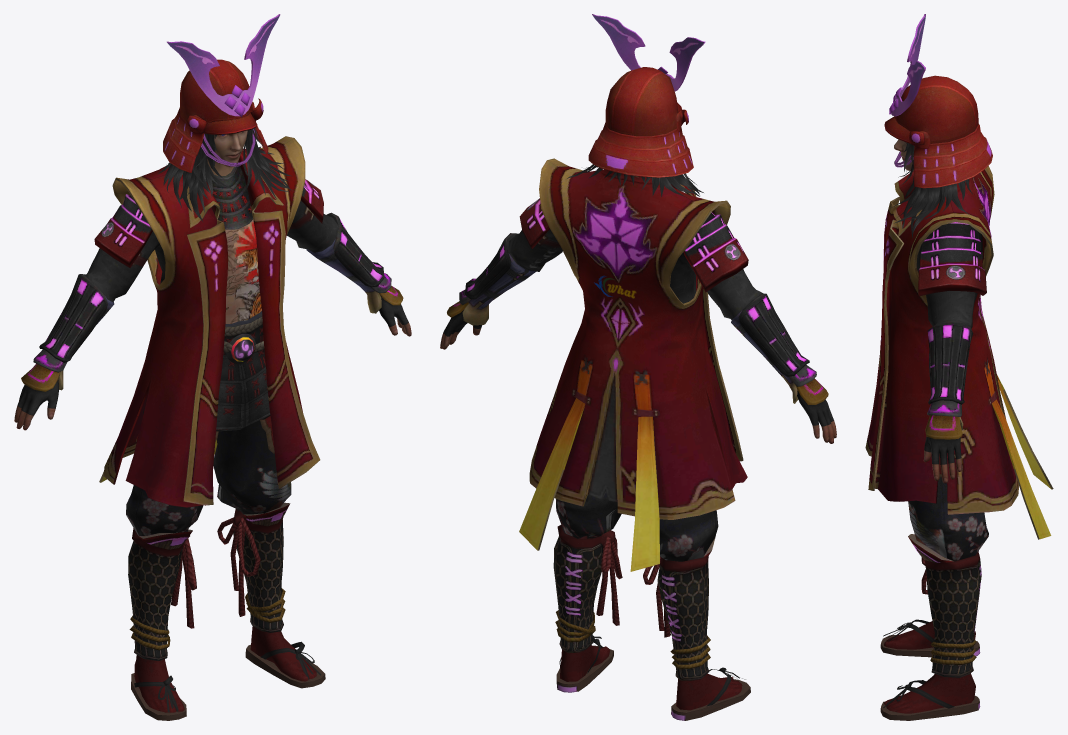
The model's file is Warringstates Male.obj.
3 views of the same model, side by side, from view 1: azimuth 30°, elevation 25°; view 2: azimuth 150°, elevation 25°; view 3: azimuth 270°, elevation 25° (orthographic). The views are drawn at different scales.
Parts seen in each view (by area): view 1: Male_Lobby_Top_Cos_Warringstates.001, Male_Lobby_Top_Cos_Warringstates.004, Male_Lobby_Top_Cos_Warringstates.005, Male_Lobby_Top_Cos_Warringstates.002, Male_Lobby_Top_Cos_Warringstates.006, Male_Lobby_Top_Cos_Warringstates.003, Male_Lobby_Top_Cos_Warringstates; view 2: Male_Lobby_Top_Cos_Warringstates.001, Male_Lobby_Top_Cos_Warringstates.004, Male_Lobby_Top_Cos_Warringstates.005, Male_Lobby_Top_Cos_Warringstates.003, Male_Lobby_Top_Cos_Warringstates.006; view 3: Male_Lobby_Top_Cos_Warringstates.001, Male_Lobby_Top_Cos_Warringstates.004, Male_Lobby_Top_Cos_Warringstates.005, Male_Lobby_Top_Cos_Warringstates.003, Male_Lobby_Top_Cos_Warringstates.006, Male_Lobby_Top_Cos_Warringstates.002.
Boxes of the visible parts, box(x1,y1,x2,y2) form: Male_Lobby_Top_Cos_Warringstates.001: box(17, 136, 408, 507); Male_Lobby_Top_Cos_Warringstates.004: box(126, 311, 316, 712); Male_Lobby_Top_Cos_Warringstates.005: box(163, 14, 280, 172); Male_Lobby_Top_Cos_Warringstates.002: box(14, 158, 411, 430); Male_Lobby_Top_Cos_Warringstates.006: box(158, 128, 292, 222); Male_Lobby_Top_Cos_Warringstates.003: box(131, 641, 325, 720); Male_Lobby_Top_Cos_Warringstates: box(214, 130, 247, 167); Male_Lobby_Top_Cos_Warringstates.001: box(443, 158, 833, 571); Male_Lobby_Top_Cos_Warringstates.004: box(553, 421, 742, 710); Male_Lobby_Top_Cos_Warringstates.005: box(588, 14, 705, 177); Male_Lobby_Top_Cos_Warringstates.003: box(556, 635, 750, 720); Male_Lobby_Top_Cos_Warringstates.006: box(567, 164, 703, 196); Male_Lobby_Top_Cos_Warringstates.001: box(865, 166, 1053, 539); Male_Lobby_Top_Cos_Warringstates.004: box(881, 337, 988, 713); Male_Lobby_Top_Cos_Warringstates.005: box(884, 14, 992, 188); Male_Lobby_Top_Cos_Warringstates.003: box(880, 619, 980, 720); Male_Lobby_Top_Cos_Warringstates.006: box(891, 142, 979, 238); Male_Lobby_Top_Cos_Warringstates.002: box(923, 450, 961, 483).
Bounding box in the file's own units: 0.6527 × 1.05 × 0.2798.
Materials: 7 (7 with a texture image).
